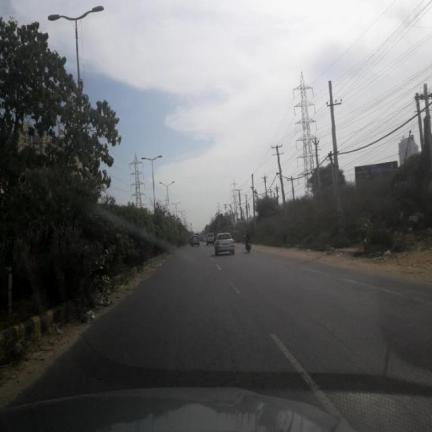Road: (14, 244, 431, 430)
